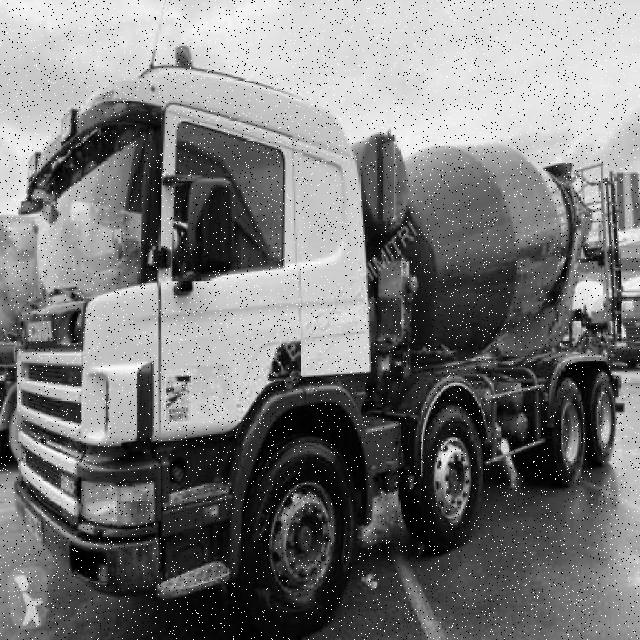Concrete Mixer: (7, 45, 622, 640)
